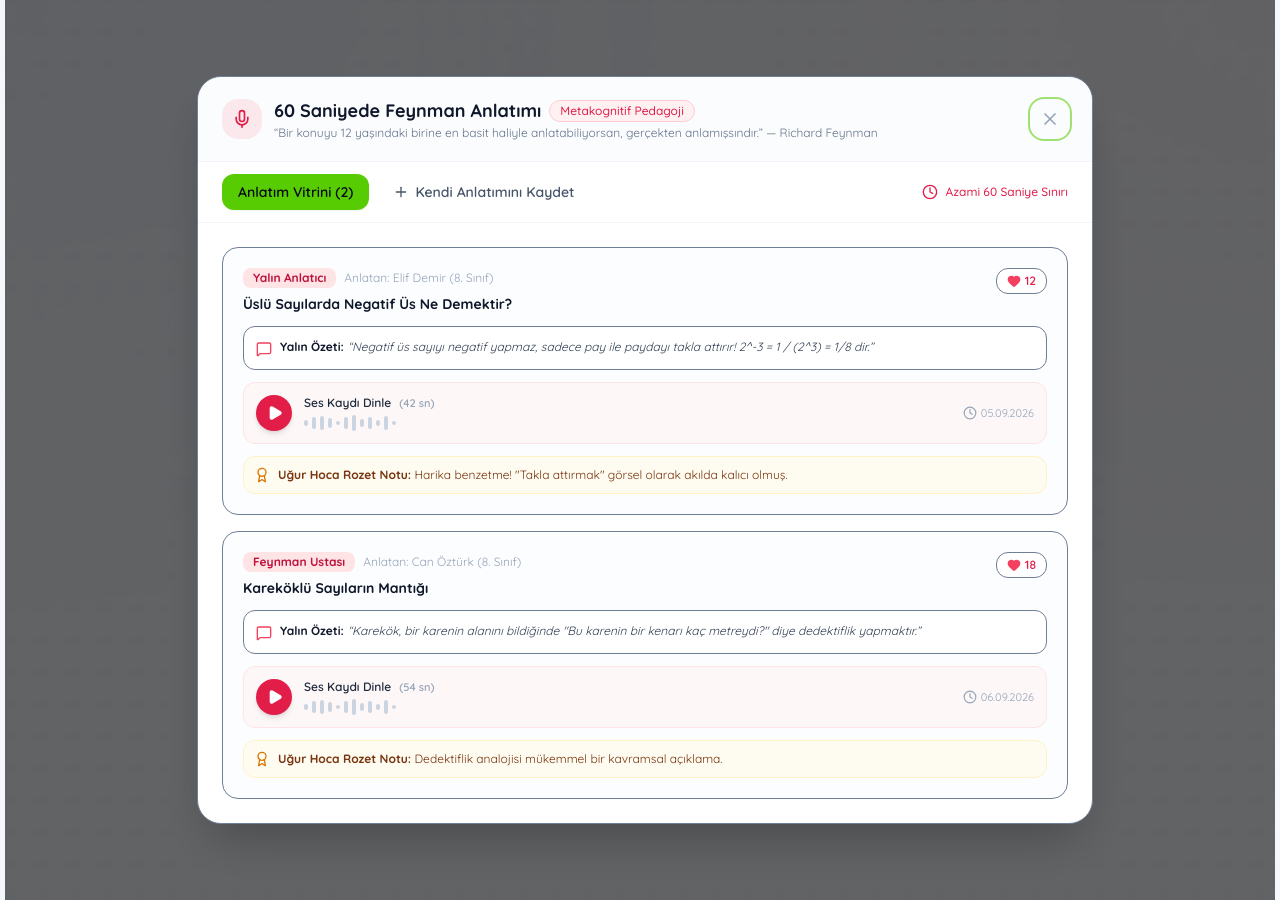
Test: FeynmanVoiceExplanationModal › kayıt sekmesine geçer ve mikrofon arayüzünü gösterir
Click the button "Kendi Anlatımını Kaydet": (484, 192) [378, 174, 590, 210]
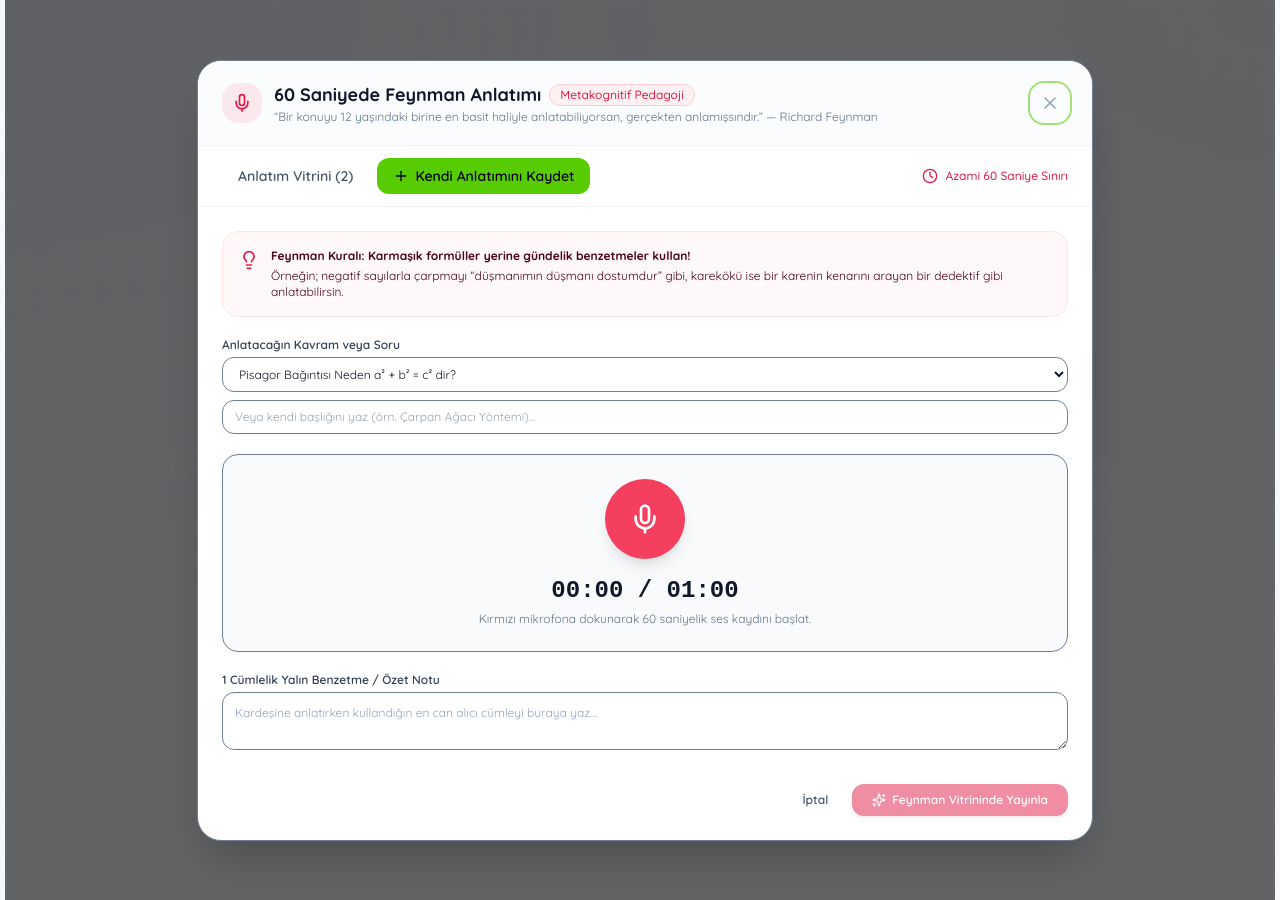
expect the text "Anlatacağın Kavram veya Soru" is shown: met, box [222, 336, 400, 352]
expect the text "00:00 / 01:00" is shown: met, box [551, 576, 739, 604]
